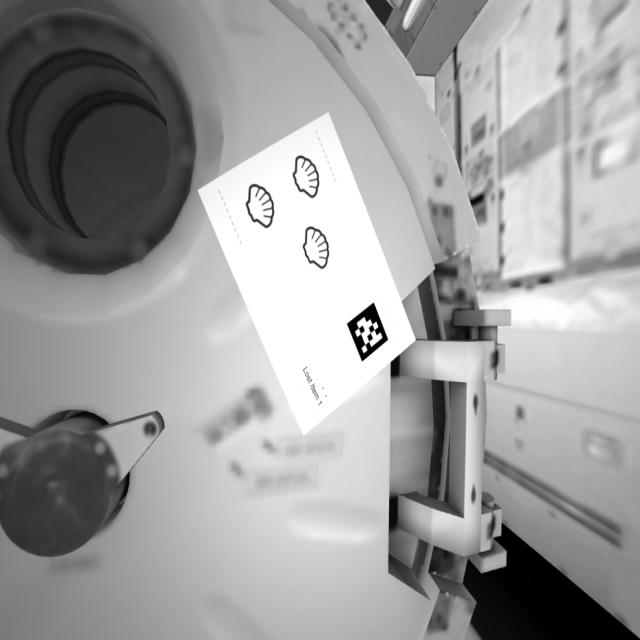shell: (290, 150, 326, 206), (301, 224, 339, 276), (245, 180, 279, 237)
